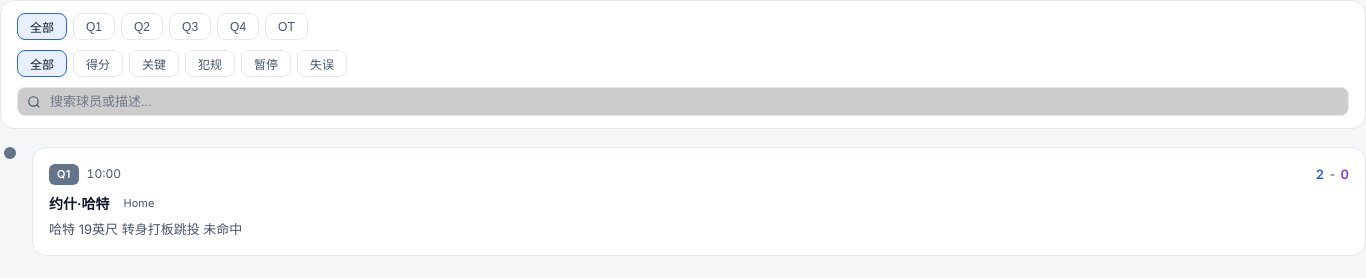
Scenario: ReplayTimelinePanel › renders the Chinese description and keeps translated misses out of scoring results
Expected: the button with class "timeline-row" shows "约什·哈特", [0, 145, 1365, 258]
Expected: the button with class "timeline-row" shows "转身打板跳投 未命中", [0, 145, 1365, 258]
Click the button "得分": (98, 64) [73, 50, 123, 77]
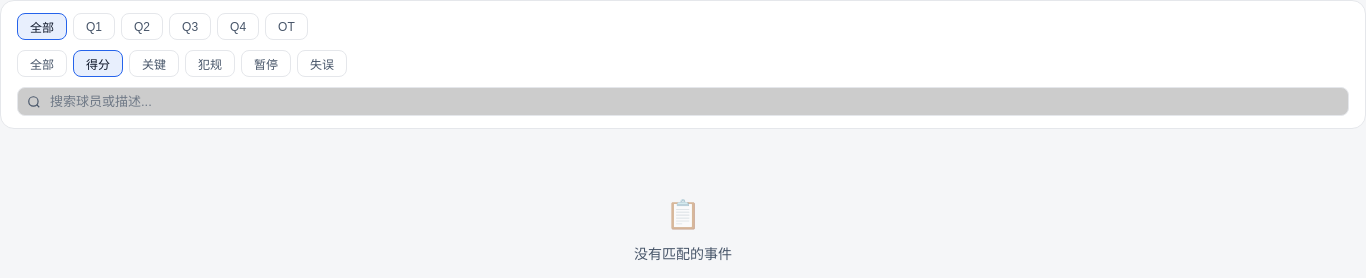
Expected: no buttons with class "timeline-row" are shown
